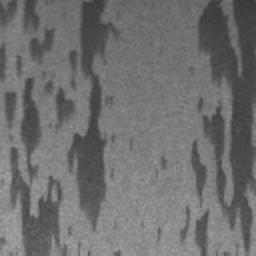Red iron sheet: (0, 0, 119, 256), (179, 0, 256, 256), (154, 225, 163, 242), (160, 157, 169, 173), (111, 250, 120, 256)
